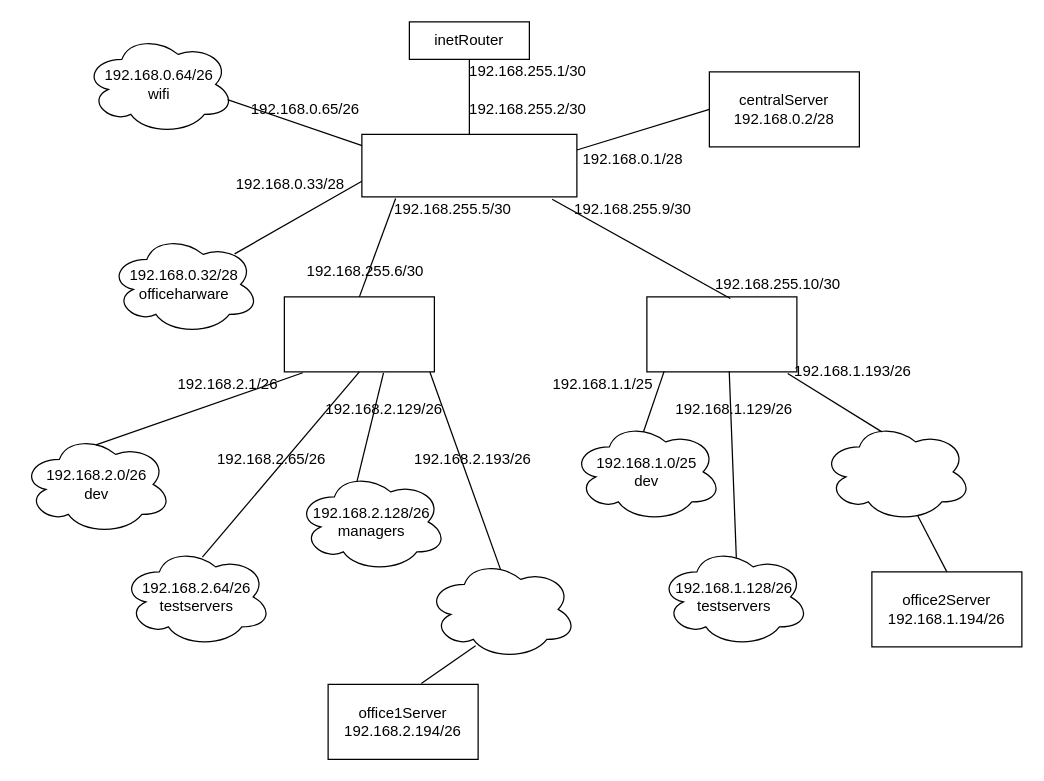
The diagram is 1044 pixels wide and 781 high, and some of its shapes have lost their labels. The shapes that lost their labels are listed below. From the top down, each one's box as (x1, y1, x2, y2) in pixels, then its label:
(361, 133, 577, 197): centralRouter
(283, 296, 434, 372): office1Router
(646, 296, 797, 372): office2Router
(821, 421, 972, 522): 192.168.1.192/26 office2 hardware
(426, 558, 577, 659): 192.168.2.192/26 office hardware
